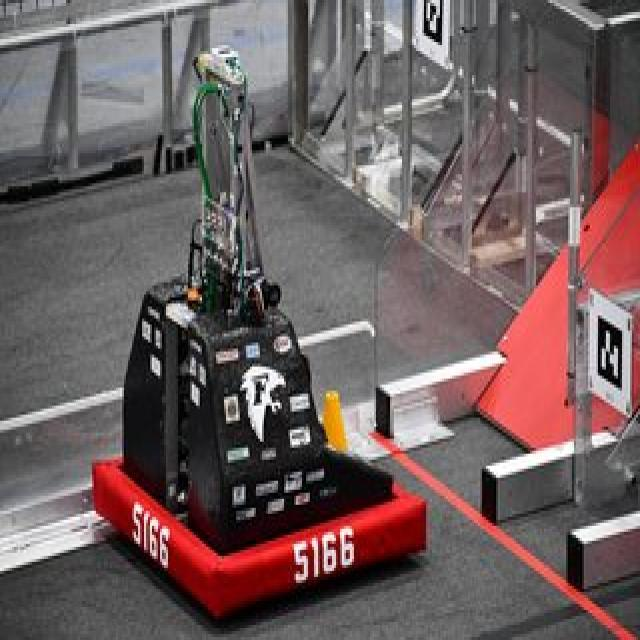robot: (88, 45, 429, 620)
